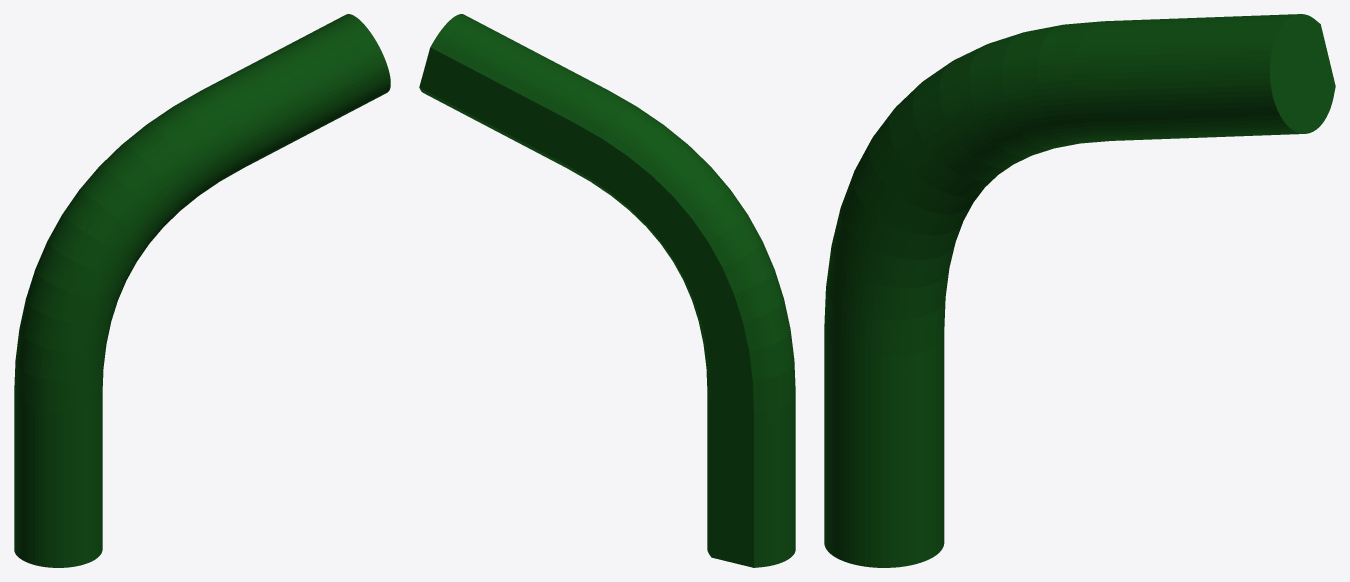
Rendered from stem_1B_75_R.glb.
3 renders of one model, left to right at view 1: azimuth 30°, elevation 25°; view 2: azimuth 150°, elevation 25°; view 3: azimuth 330°, elevation 25°, orthographic. The views are drawn at different scales.
Visible parts, largest first — view 1: stem_1B_75R; view 2: stem_1B_75R; view 3: stem_1B_75R.
Part boxes in pixels (x1=…): stem_1B_75R: x1=14, y1=14, x2=390, y2=567; stem_1B_75R: x1=419, y1=14, x2=795, y2=567; stem_1B_75R: x1=824, y1=14, x2=1335, y2=567.
Size of the model in its own units: 0.0335 by 0.0412 by 0.00666.
